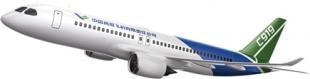airplane: (1, 3, 306, 76)
